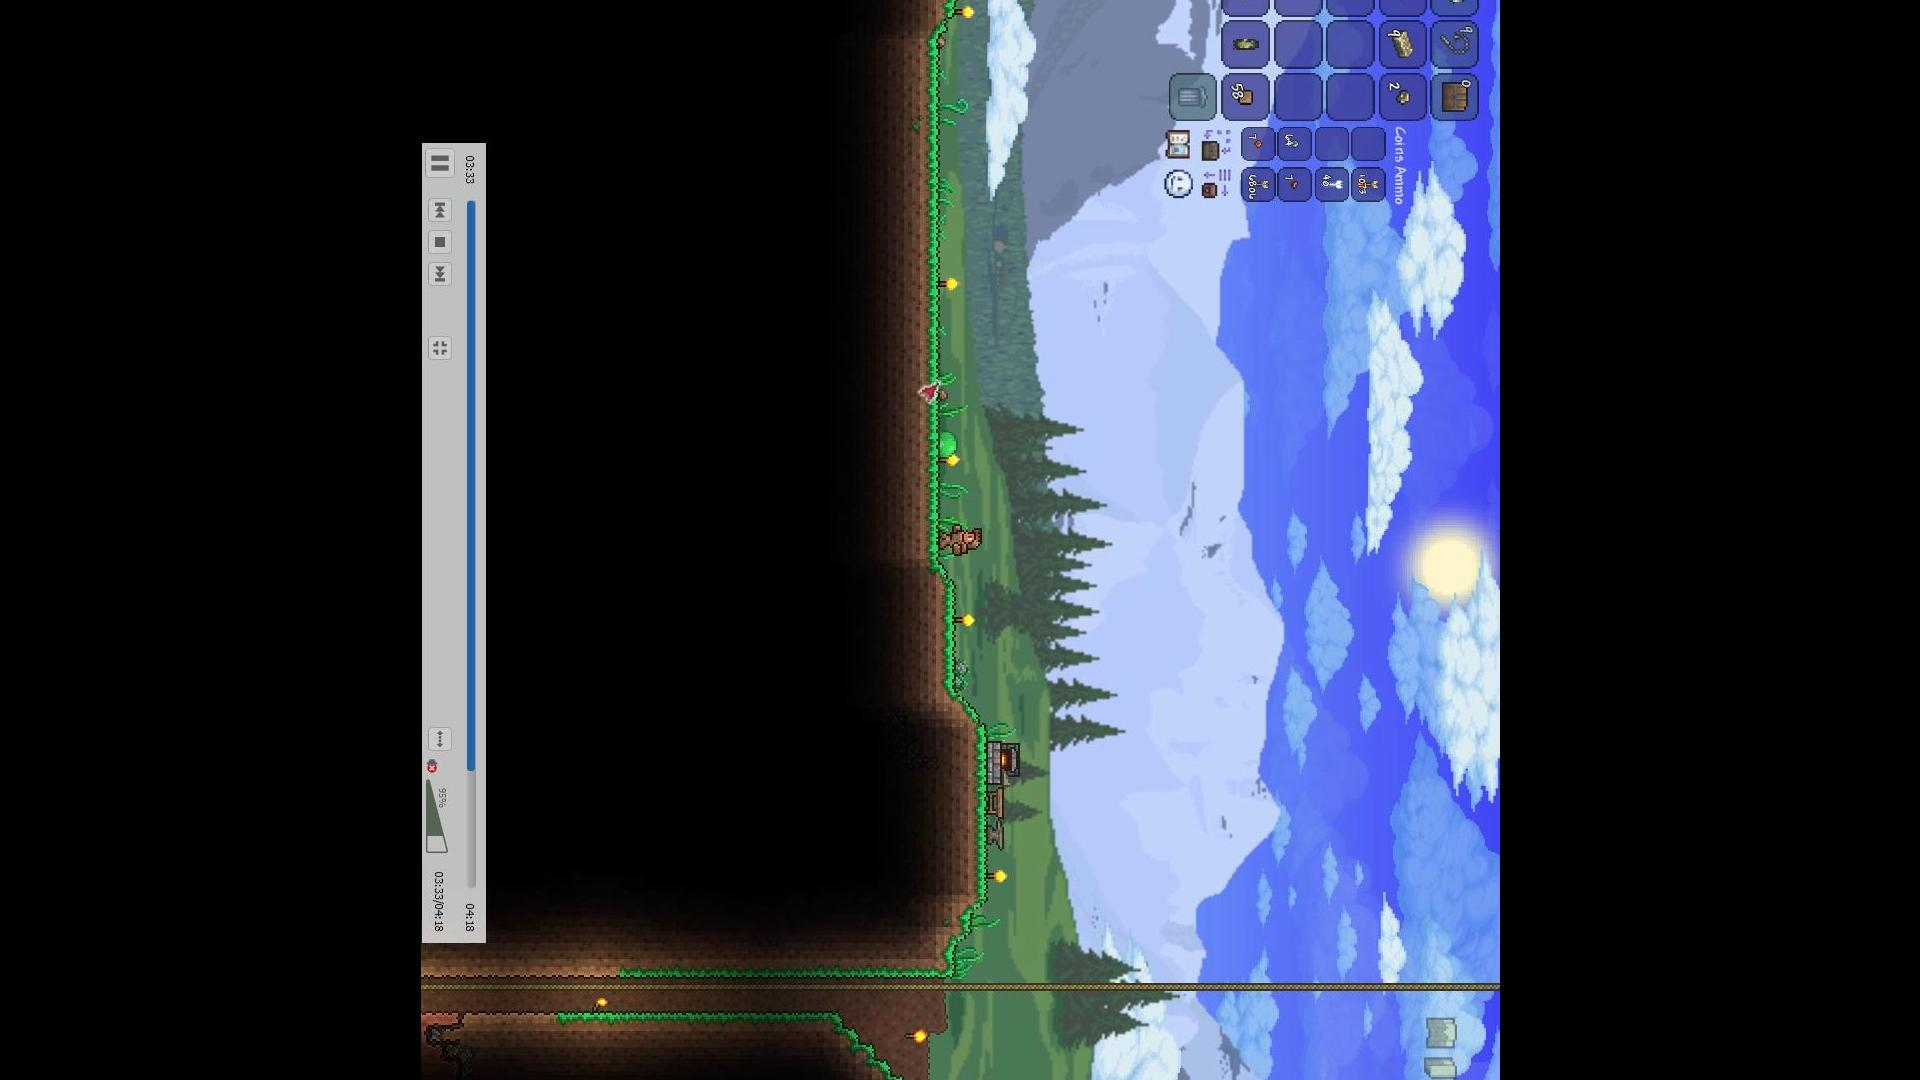anvil: (984, 820, 1007, 851)
chest: (1439, 79, 1472, 116)
furnace: (984, 736, 1026, 785)
slime: (935, 429, 959, 459)
